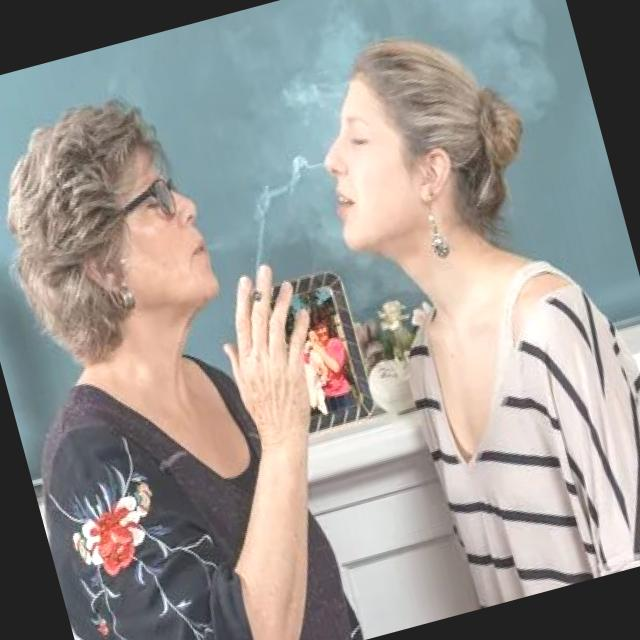smoke: (244, 282, 268, 308)
